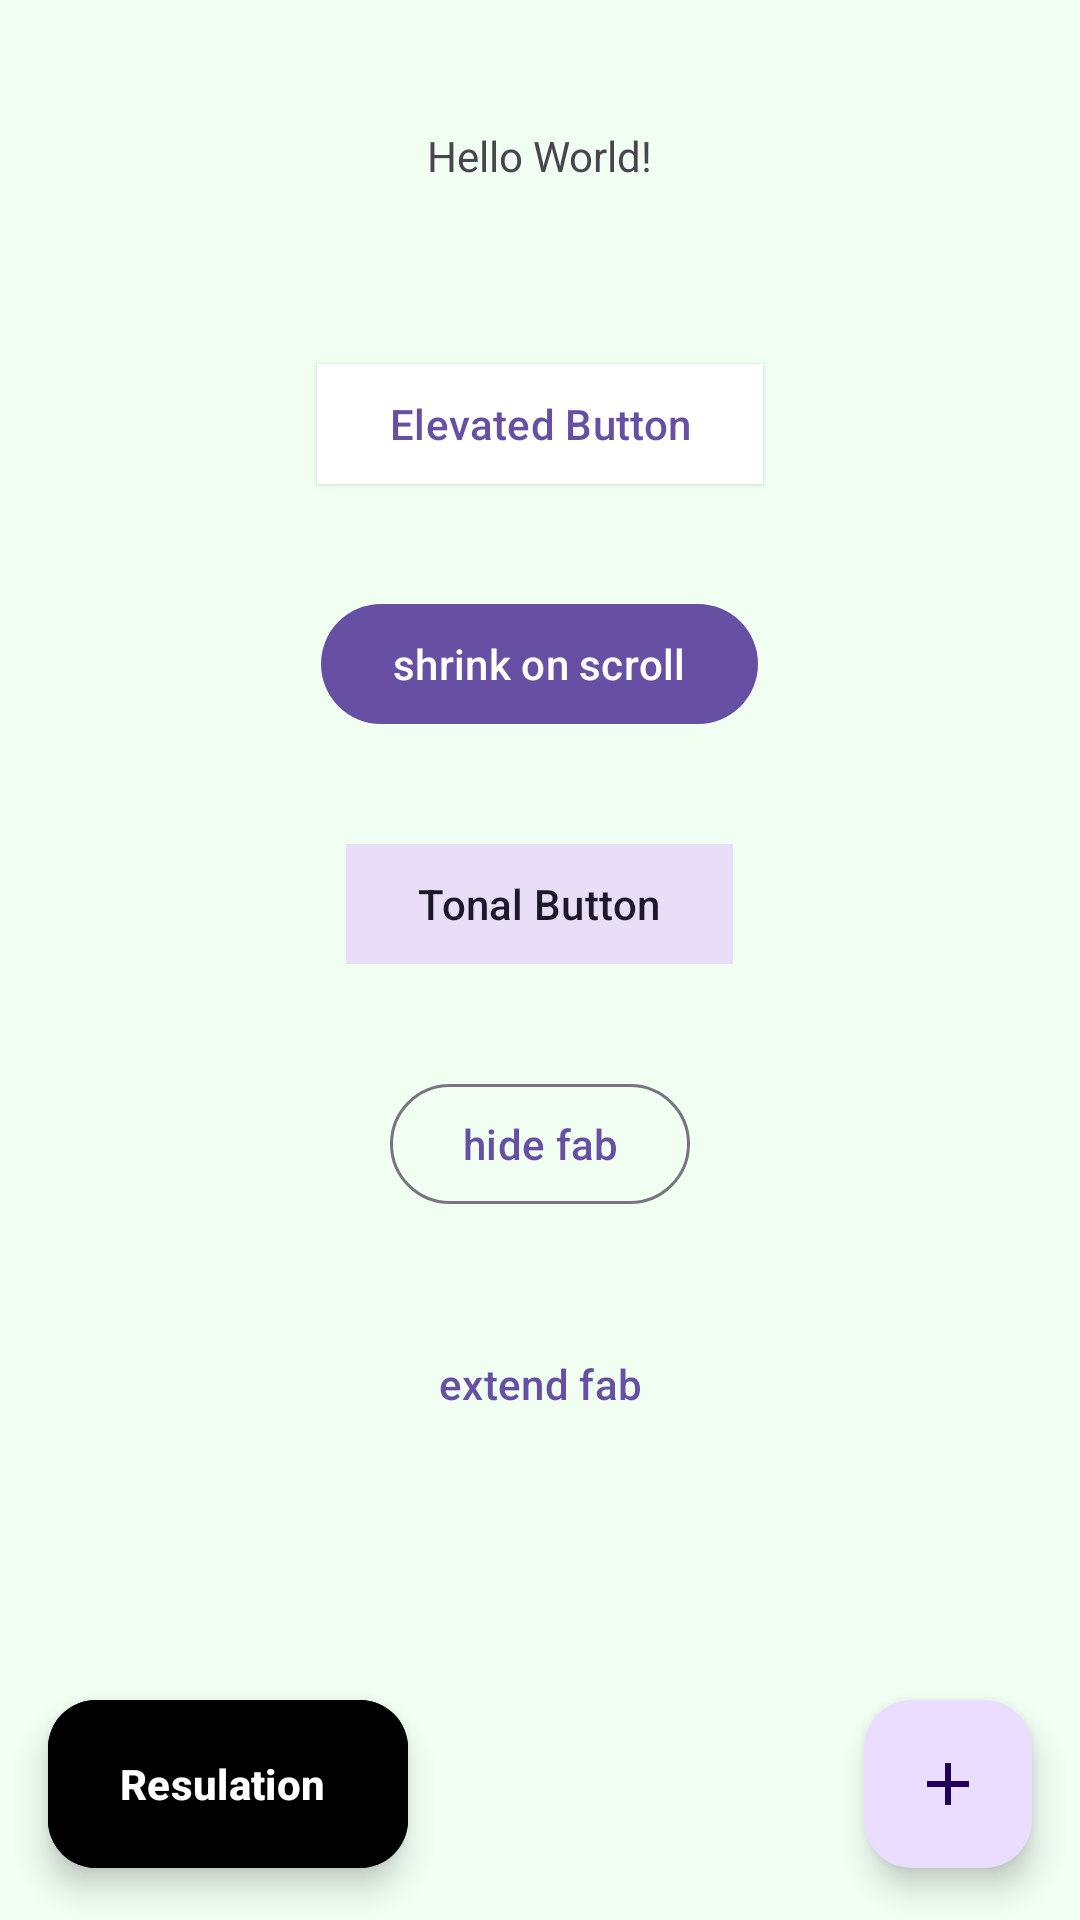

Screen size 1080×1920. Icon name, then its box in pixels as (x1, y1, x2, y2):
add: (864, 1700, 1032, 1868)
